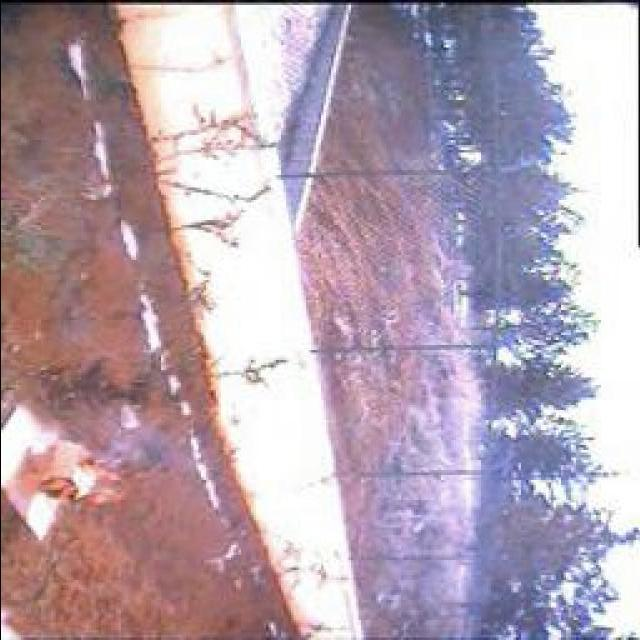Fire: (15, 432, 163, 510)
